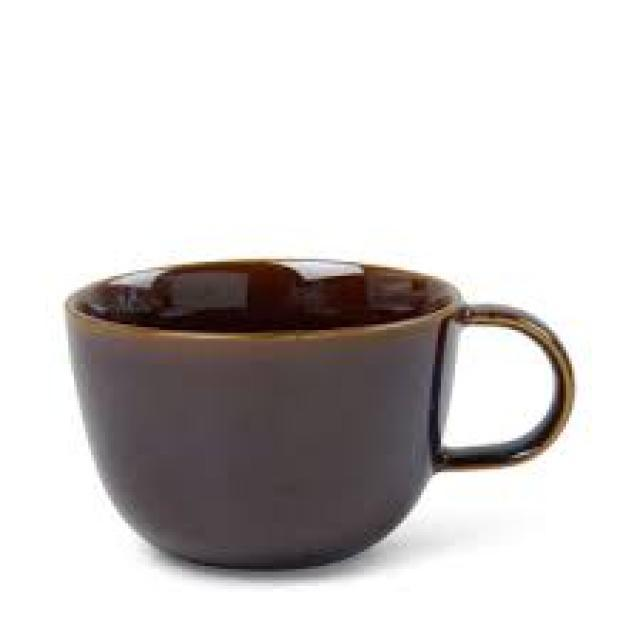taza: (63, 256, 577, 571)
